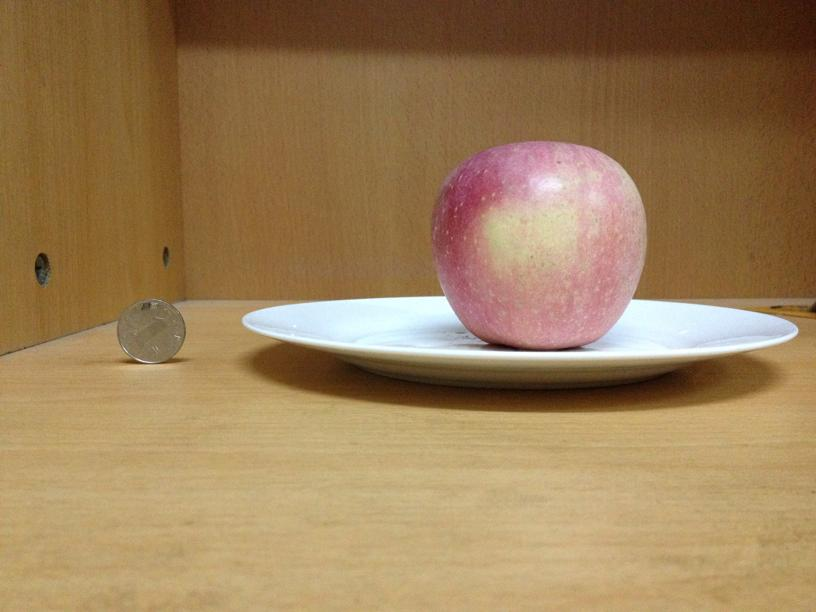apple: (434, 137, 645, 348)
coin: (112, 295, 177, 359)
